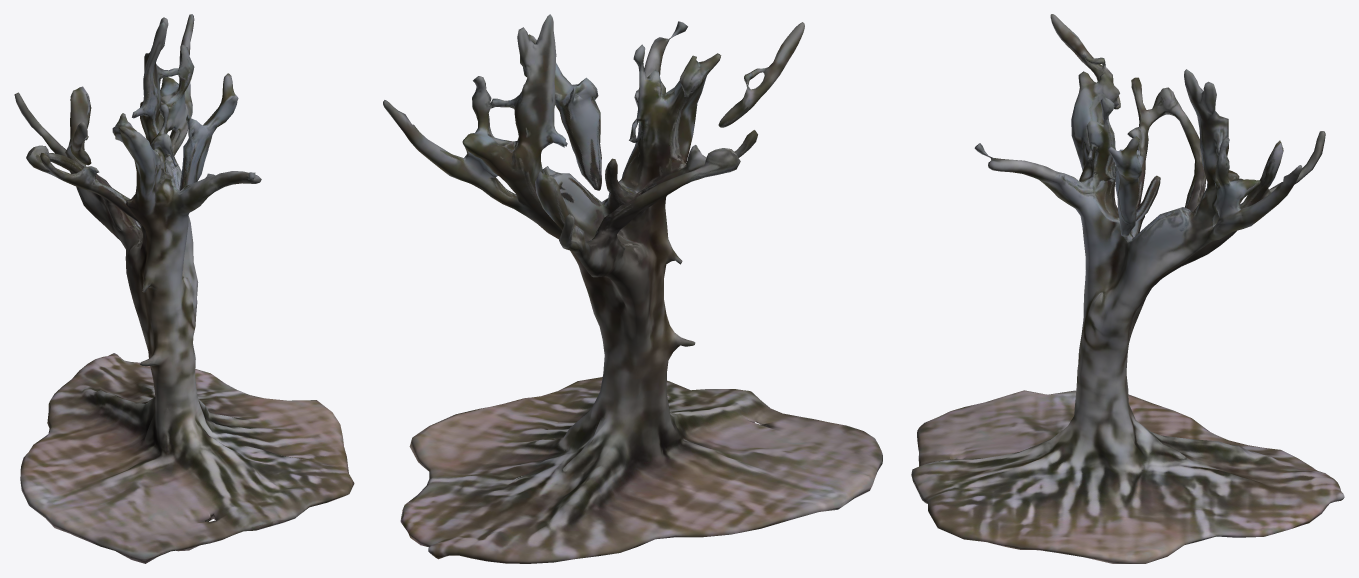
Rendered from 0c6bf7e7e19c_e9d3b235b7e3_a_dry_young_dead_tr.glb.
3 renders of one model, left to right at view 1: azimuth 30°, elevation 25°; view 2: azimuth 150°, elevation 25°; view 3: azimuth 270°, elevation 25°, orthographic. The views are drawn at different scales.
Parts seen in each view (by area): view 1: mesh; view 2: mesh; view 3: mesh.
Part boxes in pixels (x1,y1,x2,y2): mesh: (14,14,354,563); mesh: (383,14,882,563); mesh: (911,14,1344,563).
Bounding box in the file's own units: 0.7997 × 0.9888 × 0.8789.
Materials: 1 (1 with a texture image).
